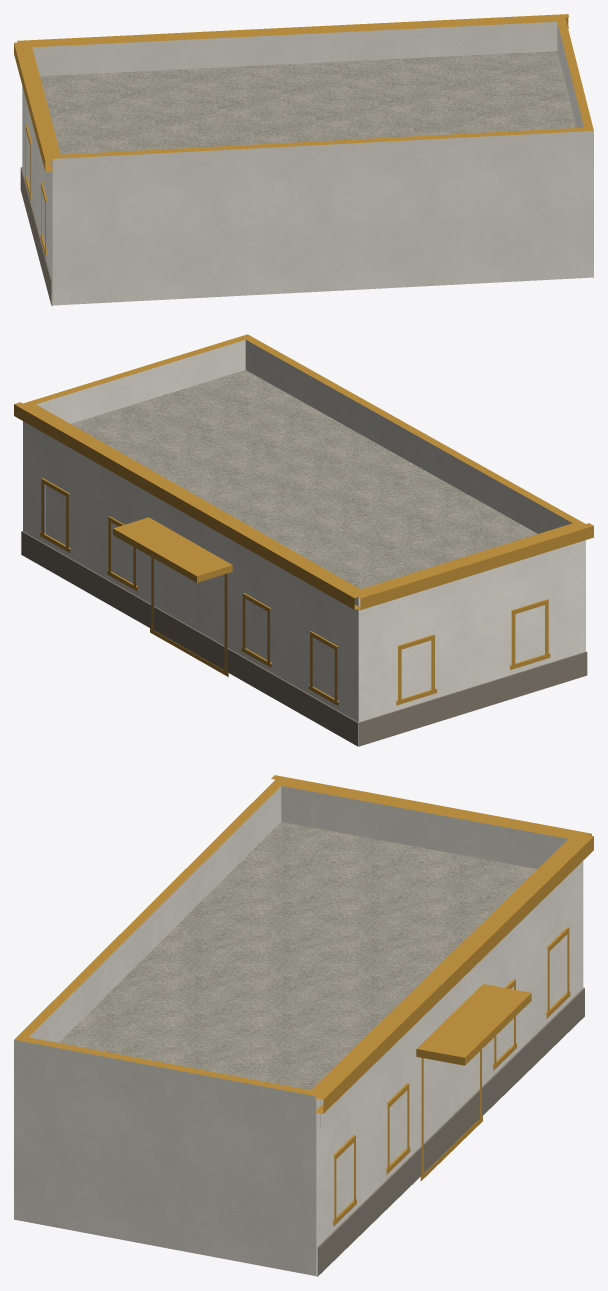
The picture shows the model from 3 angles, top to bottom: view 1: azimuth 30°, elevation 25°; view 2: azimuth 150°, elevation 25°; view 3: azimuth 270°, elevation 25°; orthographic projection. The views are drawn at different scales.
Parts seen in each view (by area): view 1: B-w1327914038_lejos, B-w1327914038_cubierta, B-w1327914038_muros, B-w1327914038_molduras; view 2: B-w1327914038_lejos, B-w1327914038_muros, B-w1327914038_molduras, B-w1327914038_cubierta, B-w1327914038_remates; view 3: B-w1327914038_lejos, B-w1327914038_muros, B-w1327914038_cubierta, B-w1327914038_molduras, B-w1327914038_remates.
Boxes of the visible parts, left/top/right/bottom form: B-w1327914038_lejos: left=28, top=51, right=593, bottom=303; B-w1327914038_cubierta: left=22, top=17, right=593, bottom=158; B-w1327914038_muros: left=22, top=86, right=593, bottom=305; B-w1327914038_molduras: left=14, top=14, right=568, bottom=305; B-w1327914038_lejos: left=45, top=370, right=585, bottom=745; B-w1327914038_muros: left=23, top=421, right=585, bottom=721; B-w1327914038_molduras: left=14, top=402, right=593, bottom=746; B-w1327914038_cubierta: left=23, top=334, right=585, bottom=594; B-w1327914038_remates: left=113, top=517, right=232, bottom=582; B-w1327914038_lejos: left=59, top=822, right=583, bottom=1275; B-w1327914038_muros: left=14, top=861, right=583, bottom=1275; B-w1327914038_cubierta: left=14, top=779, right=582, bottom=1127; B-w1327914038_molduras: left=271, top=775, right=593, bottom=1276; B-w1327914038_remates: left=416, top=984, right=531, bottom=1065.
Bounding box in the file's own units: 17.43 × 4.62 × 13.16.
Materials: 6 (2 with a texture image).
